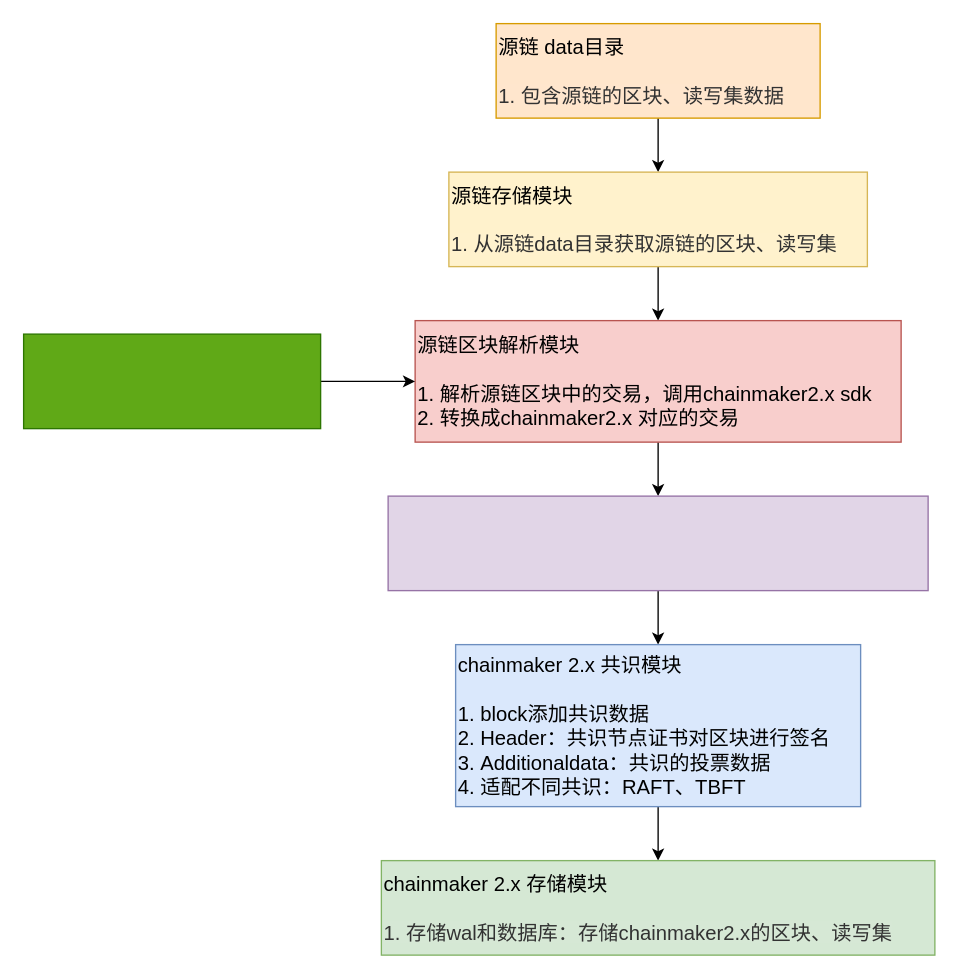
The diagram is 959 pixels wide and 979 high, and some of its shapes have lost their labels. Here are the shapes that lost their labels. From the top down, the centre of each, then its label:
At point 171,381: "chainmaker2.x sdk 1. 生成chainmaker 2.x的交易".
At point 657,543: "chainmaker 2.x core模块 1. 解析源链的读写集生成chainmaker2.x的DAG、读写集".
